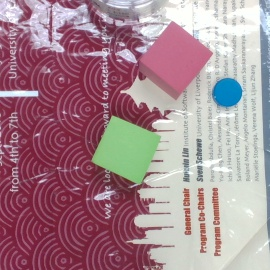blue: (211, 77, 243, 108)
